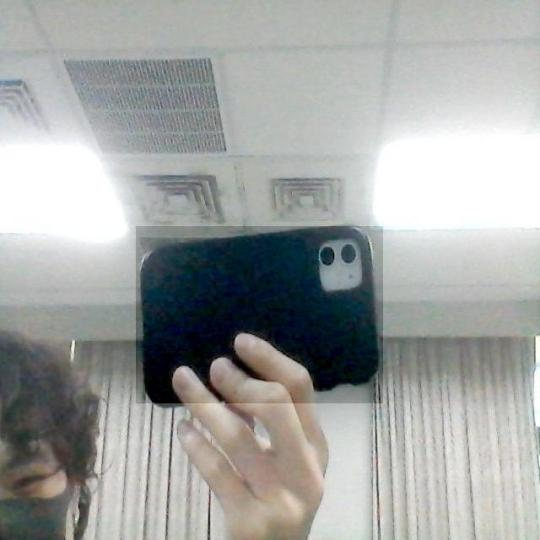phone: (136, 225, 390, 406)
